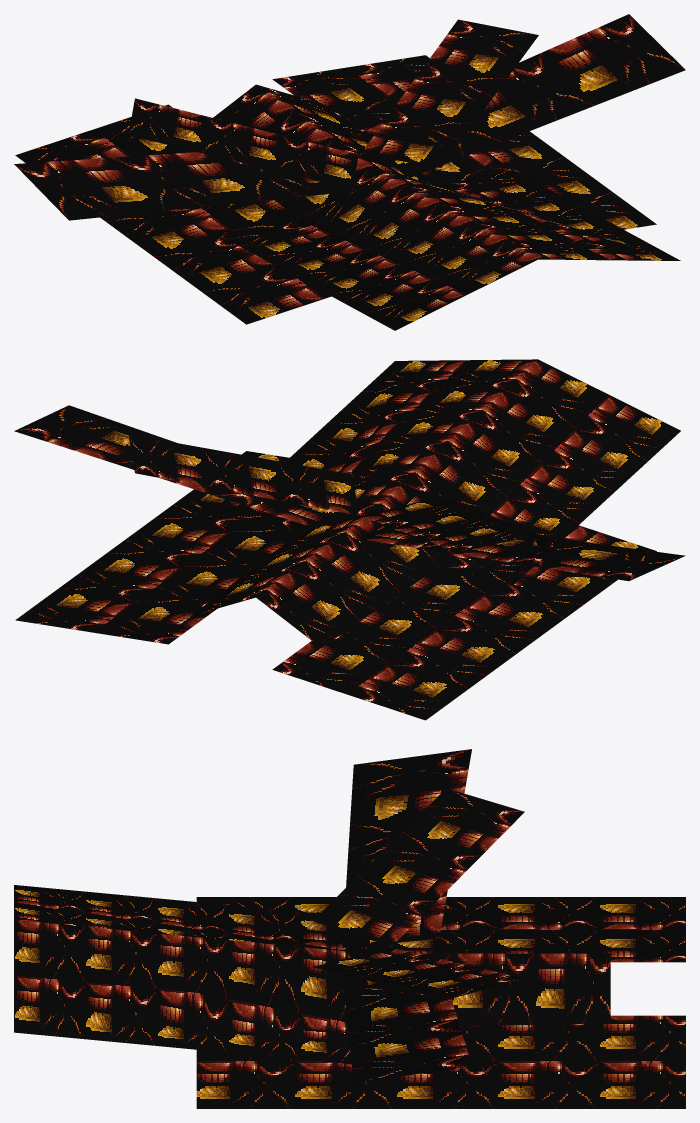
File: 5010musi20.gltf
3 views of the same model, one above another, from view 1: azimuth 30°, elevation 25°; view 2: azimuth 150°, elevation 25°; view 3: azimuth 270°, elevation 25° (orthographic). The views are drawn at different scales.
Parts seen in each view (by area): view 1: 5010musi20; view 2: 5010musi20; view 3: 5010musi20.
Boxes of the visible parts, box(x1,y1,x2,y2) form: 5010musi20: box(14, 14, 685, 330); 5010musi20: box(14, 359, 685, 720); 5010musi20: box(14, 749, 685, 1108).
Bounding box in the file's own units: 0.3198 × 0.051 × 0.2854.
4 materials, 4 textured.
